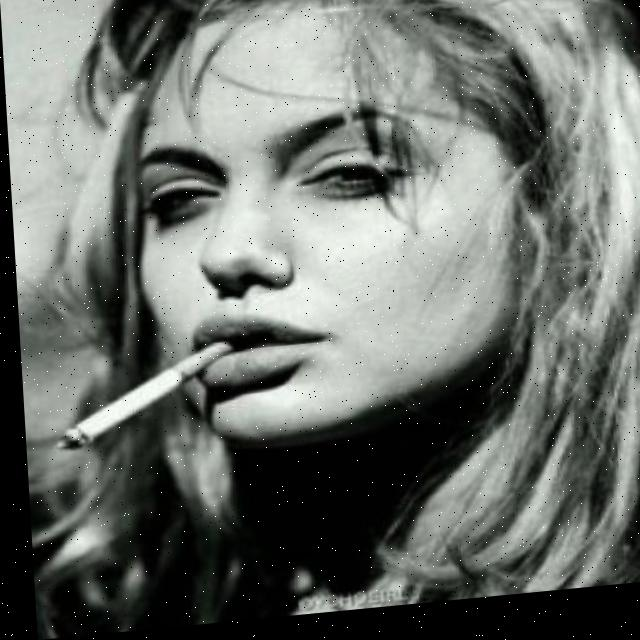cigarette: (44, 343, 232, 457)
